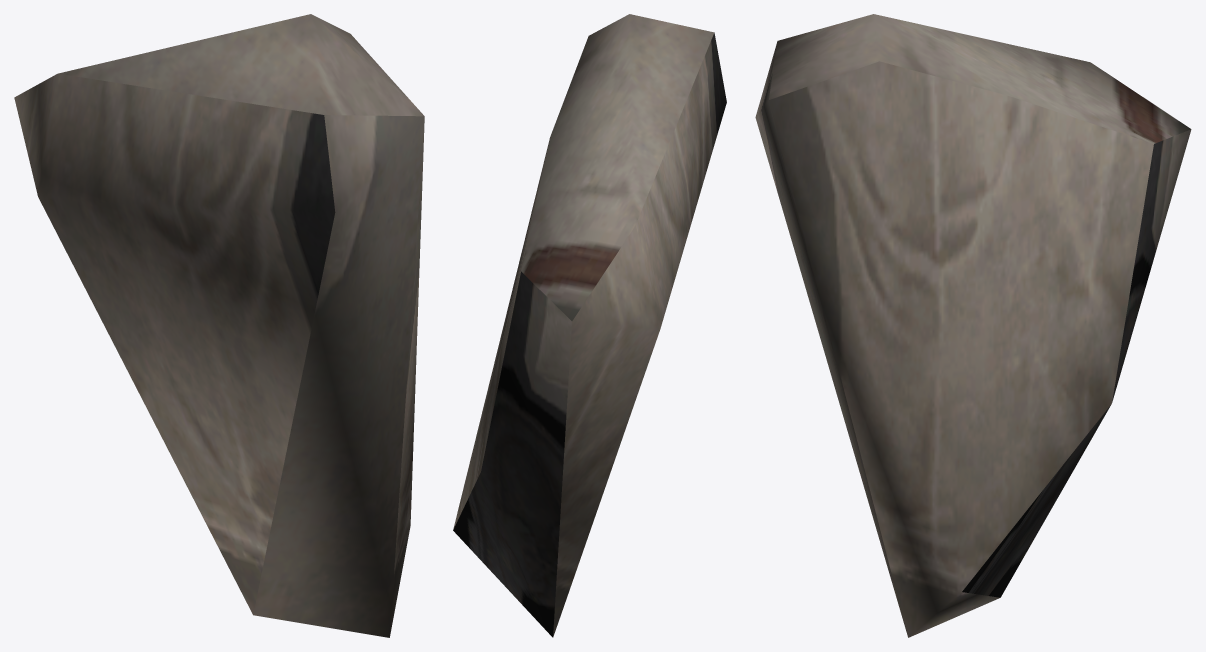
File: dest_nt_nuked_male_03_arm_right_LOD3.obj
The picture shows the model from 3 angles, left to right: view 1: azimuth 30°, elevation 25°; view 2: azimuth 150°, elevation 25°; view 3: azimuth 270°, elevation 25°; orthographic projection. The views are drawn at different scales.
Visible parts, largest first — view 1: mtl_nt_2020_manne_male01_pants1; view 2: mtl_nt_2020_manne_male01_pants1; view 3: mtl_nt_2020_manne_male01_pants1.
Boxes of the visible parts, bbox=[...] form: mtl_nt_2020_manne_male01_pants1: bbox=[14, 14, 424, 637]; mtl_nt_2020_manne_male01_pants1: bbox=[453, 14, 726, 637]; mtl_nt_2020_manne_male01_pants1: bbox=[755, 14, 1191, 637].
Size of the model in its own units: 24.94 by 51.97 by 35.3.
